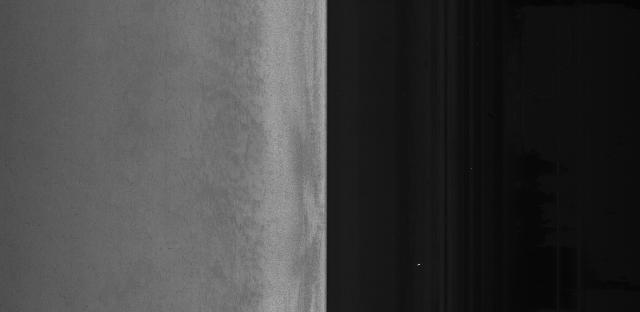silk_spot: (215, 81, 262, 211)
